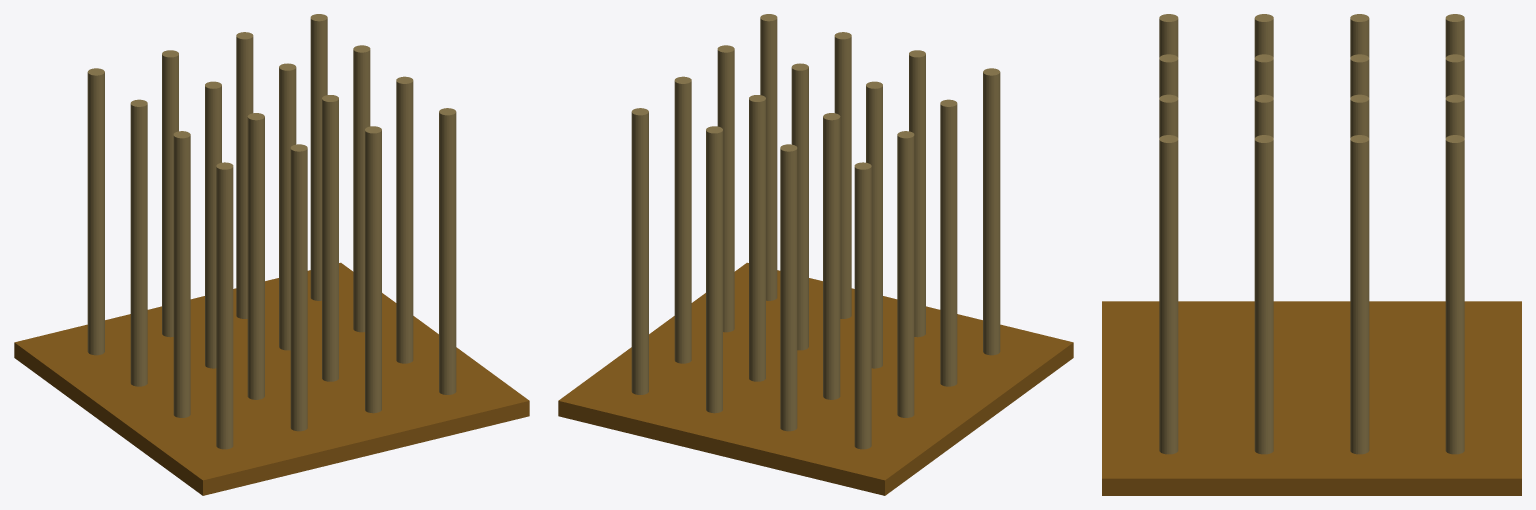
Rendered from board.glb.
3 renders of one model, left to right at view 1: azimuth 30°, elevation 25°; view 2: azimuth 150°, elevation 25°; view 3: azimuth 270°, elevation 25°, orthographic. The views are drawn at different scales.
Parts seen in each view (by area): view 1: 立方体, 円柱.001, 円柱.003, 円柱.004, 円柱.005, 円柱.014, 円柱.006, 円柱.013, 円柱.002, 円柱.009, 円柱.010, 円柱.011 (+5 smaller); view 2: 立方体, 円柱.004, 円柱.001, 円柱.002, 円柱.008, 円柱.015, 円柱.007, 円柱.016, 円柱.003, 円柱.012, 円柱.011, 円柱.010 (+5 smaller); view 3: 立方体, 円柱.013, 円柱.016, 円柱.014, 円柱.015, 円柱.001, 円柱.004, 円柱.006, 円柱.007, 円柱.009, 円柱.010, 円柱.011 (+5 smaller).
Boxes of the visible parts, x1,y1,x2,y2 form: 立方体: (14, 262, 529, 495); 円柱.001: (216, 162, 233, 449); 円柱.003: (130, 99, 147, 386); 円柱.004: (87, 68, 104, 355); 円柱.005: (290, 144, 307, 431); 円柱.014: (396, 76, 413, 363); 円柱.006: (247, 113, 264, 399); 円柱.013: (439, 108, 456, 394); 円柱.002: (173, 131, 190, 417); 円柱.009: (365, 126, 381, 413); 円柱.010: (322, 95, 338, 381); 円柱.011: (279, 63, 296, 350); 立方体: (558, 262, 1073, 495); 円柱.004: (854, 162, 871, 449); 円柱.001: (983, 68, 1000, 355); 円柱.002: (940, 99, 957, 386); 円柱.008: (780, 144, 797, 431); 円柱.015: (674, 76, 691, 363); 円柱.007: (823, 113, 840, 399); 円柱.016: (631, 108, 648, 394); 円柱.003: (897, 131, 914, 417); 円柱.012: (706, 126, 722, 413); 円柱.011: (749, 95, 765, 381); 円柱.010: (791, 63, 808, 350); 立方体: (1102, 301, 1521, 495); 円柱.013: (1159, 135, 1178, 454); 円柱.016: (1445, 135, 1464, 454); 円柱.014: (1254, 135, 1273, 454); 円柱.015: (1350, 135, 1369, 454); 円柱.001: (1159, 14, 1178, 57); 円柱.004: (1445, 14, 1464, 57); 円柱.006: (1254, 54, 1273, 97); 円柱.007: (1350, 54, 1369, 97); 円柱.009: (1159, 94, 1178, 137); 円柱.010: (1254, 94, 1273, 138); 円柱.011: (1350, 94, 1369, 138).
Bounding box in the file's own units: 4.4 × 3.8 × 4.4.
